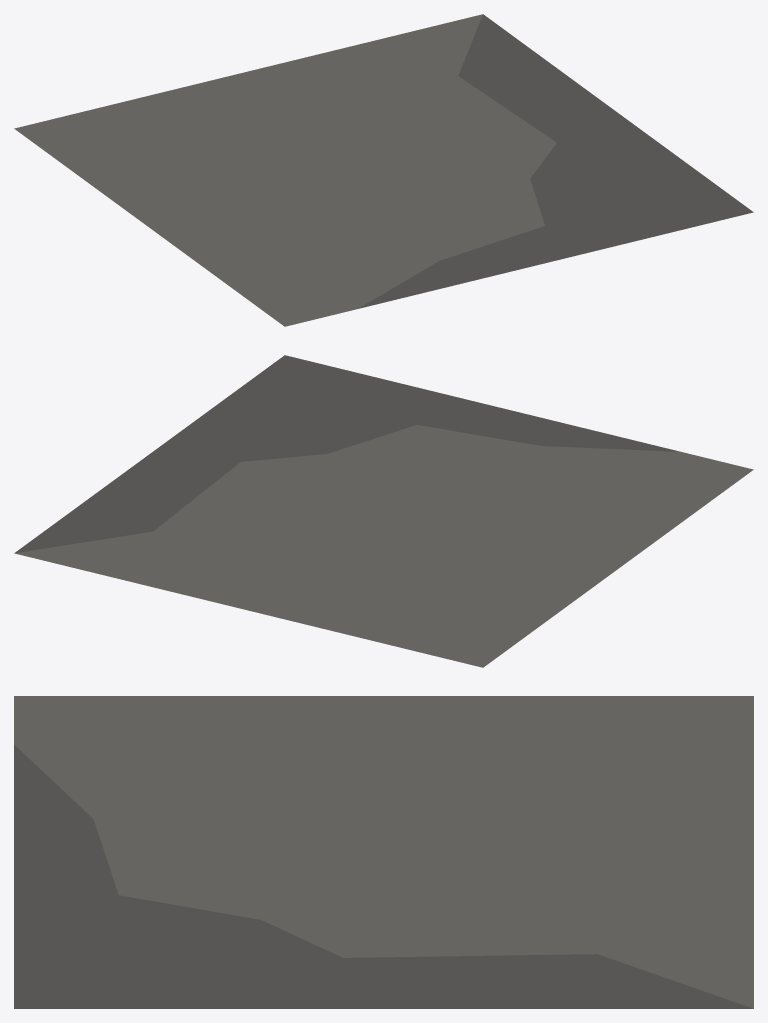
The model's file is AI_Env_Roof_02_Stained_02.fbx.
3 views of the same model, one above another, from view 1: azimuth 30°, elevation 25°; view 2: azimuth 150°, elevation 25°; view 3: azimuth 270°, elevation 25° (orthographic). The views are drawn at different scales.
Visible parts, largest first — view 1: AI_Env_Roof_02_Stained_02; view 2: AI_Env_Roof_02_Stained_02; view 3: AI_Env_Roof_02_Stained_02.
Boxes of the visible parts, <box> form: AI_Env_Roof_02_Stained_02: <box>14,14,753,326</box>; AI_Env_Roof_02_Stained_02: <box>14,355,753,667</box>; AI_Env_Roof_02_Stained_02: <box>14,696,753,1008</box>.
Bounding box in the file's own units: 5 × 0 × 5.
